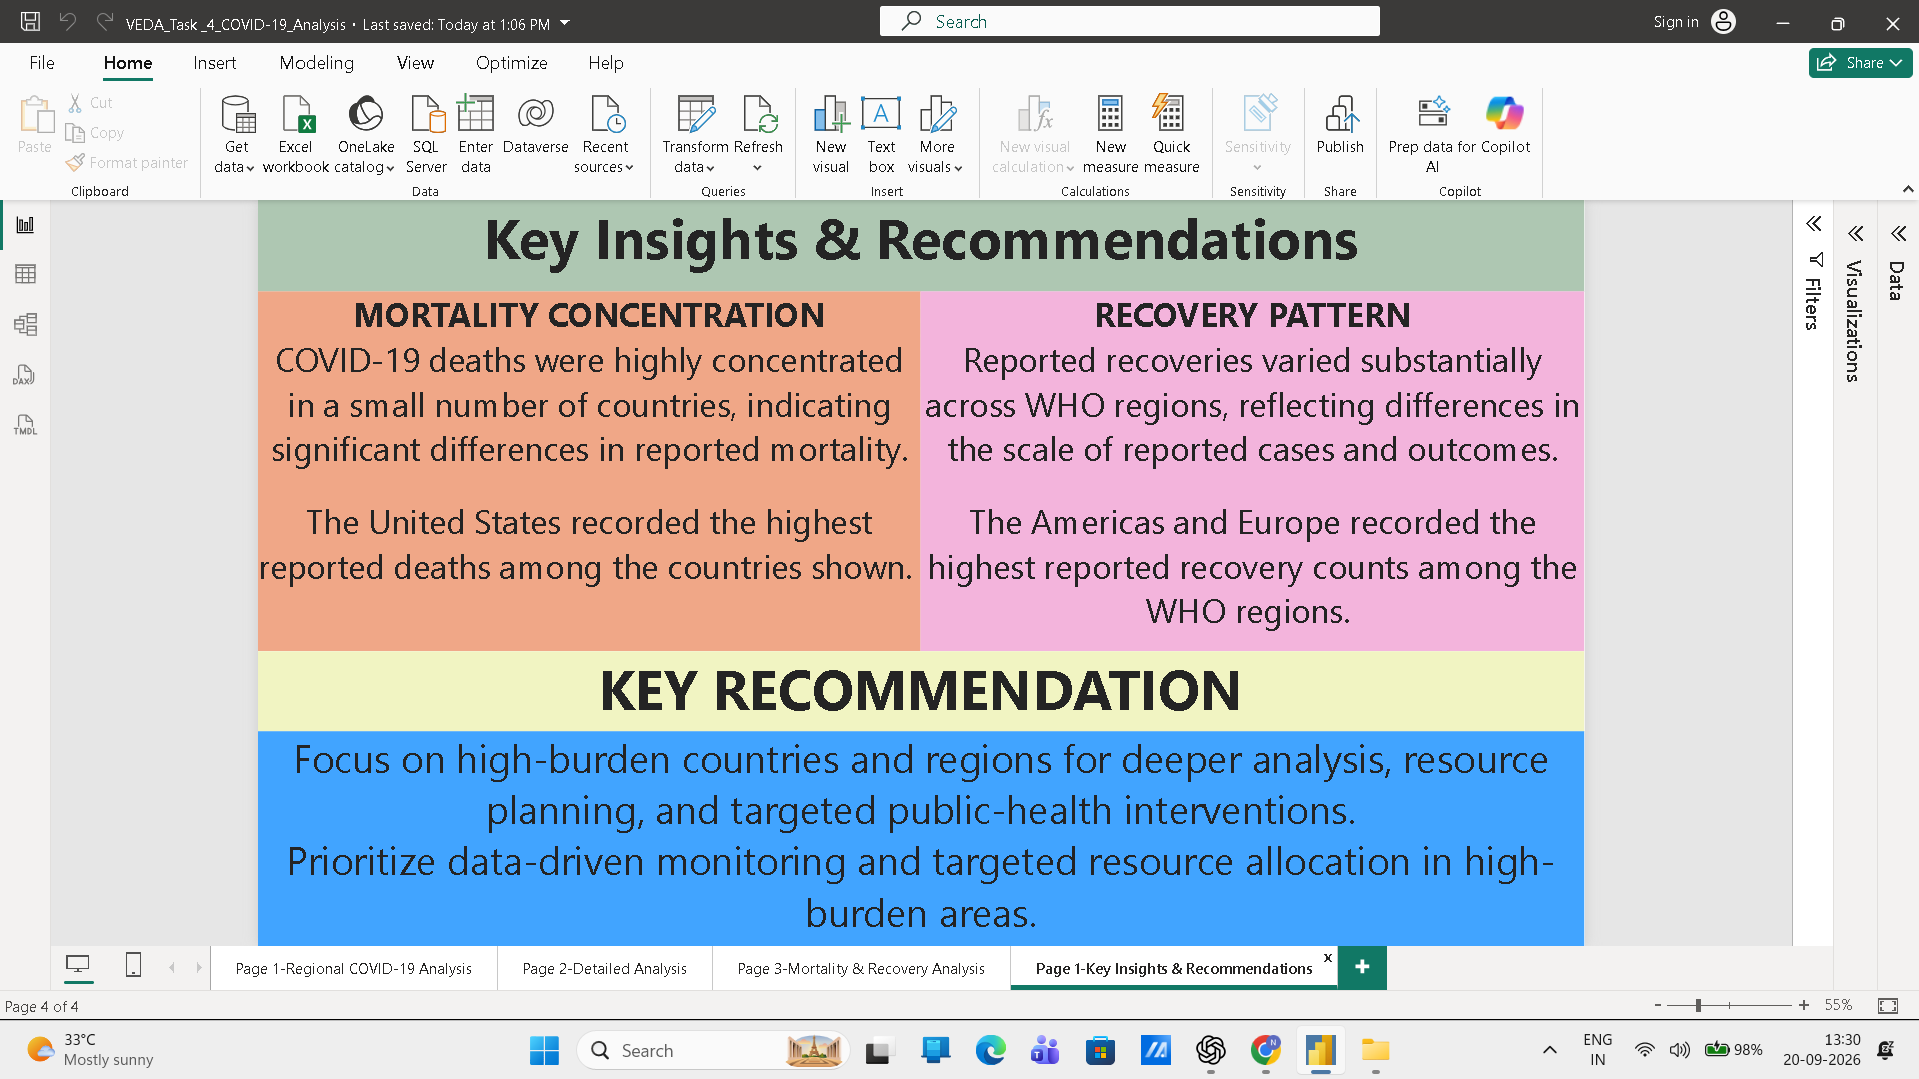

Layout of this report page (visuals, bound fields, positions):
{"tool":"powerbi","page":{"name":"Page 1-Key Insights & Recommendations","canvas":[1920,1080],"ordinal":3},"visuals":[{"type":"textbox","box":[0,132.1,959.1,521.2],"z":0},{"type":"textbox","box":[959.1,132.1,960.9,521.2],"z":1},{"type":"textbox","box":[0,0,1920.1,132.1],"z":2},{"type":"textbox","box":[0,653.3,1920.1,115.8],"z":3},{"type":"textbox","box":[0,769.1,1920.1,311.3],"z":4}]}

Visuals, with their boxes on the page's 1920x1080 design canvas (x1, y1, x2, y2). These are canvas units, not pixel positions in the 1919x1079 screenshot, which may show the page scaled, cropped or inside an application window:
textbox: l=0, t=132, r=959, b=653
textbox: l=959, t=132, r=1920, b=653
textbox: l=0, t=0, r=1920, b=132
textbox: l=0, t=653, r=1920, b=769
textbox: l=0, t=769, r=1920, b=1080
